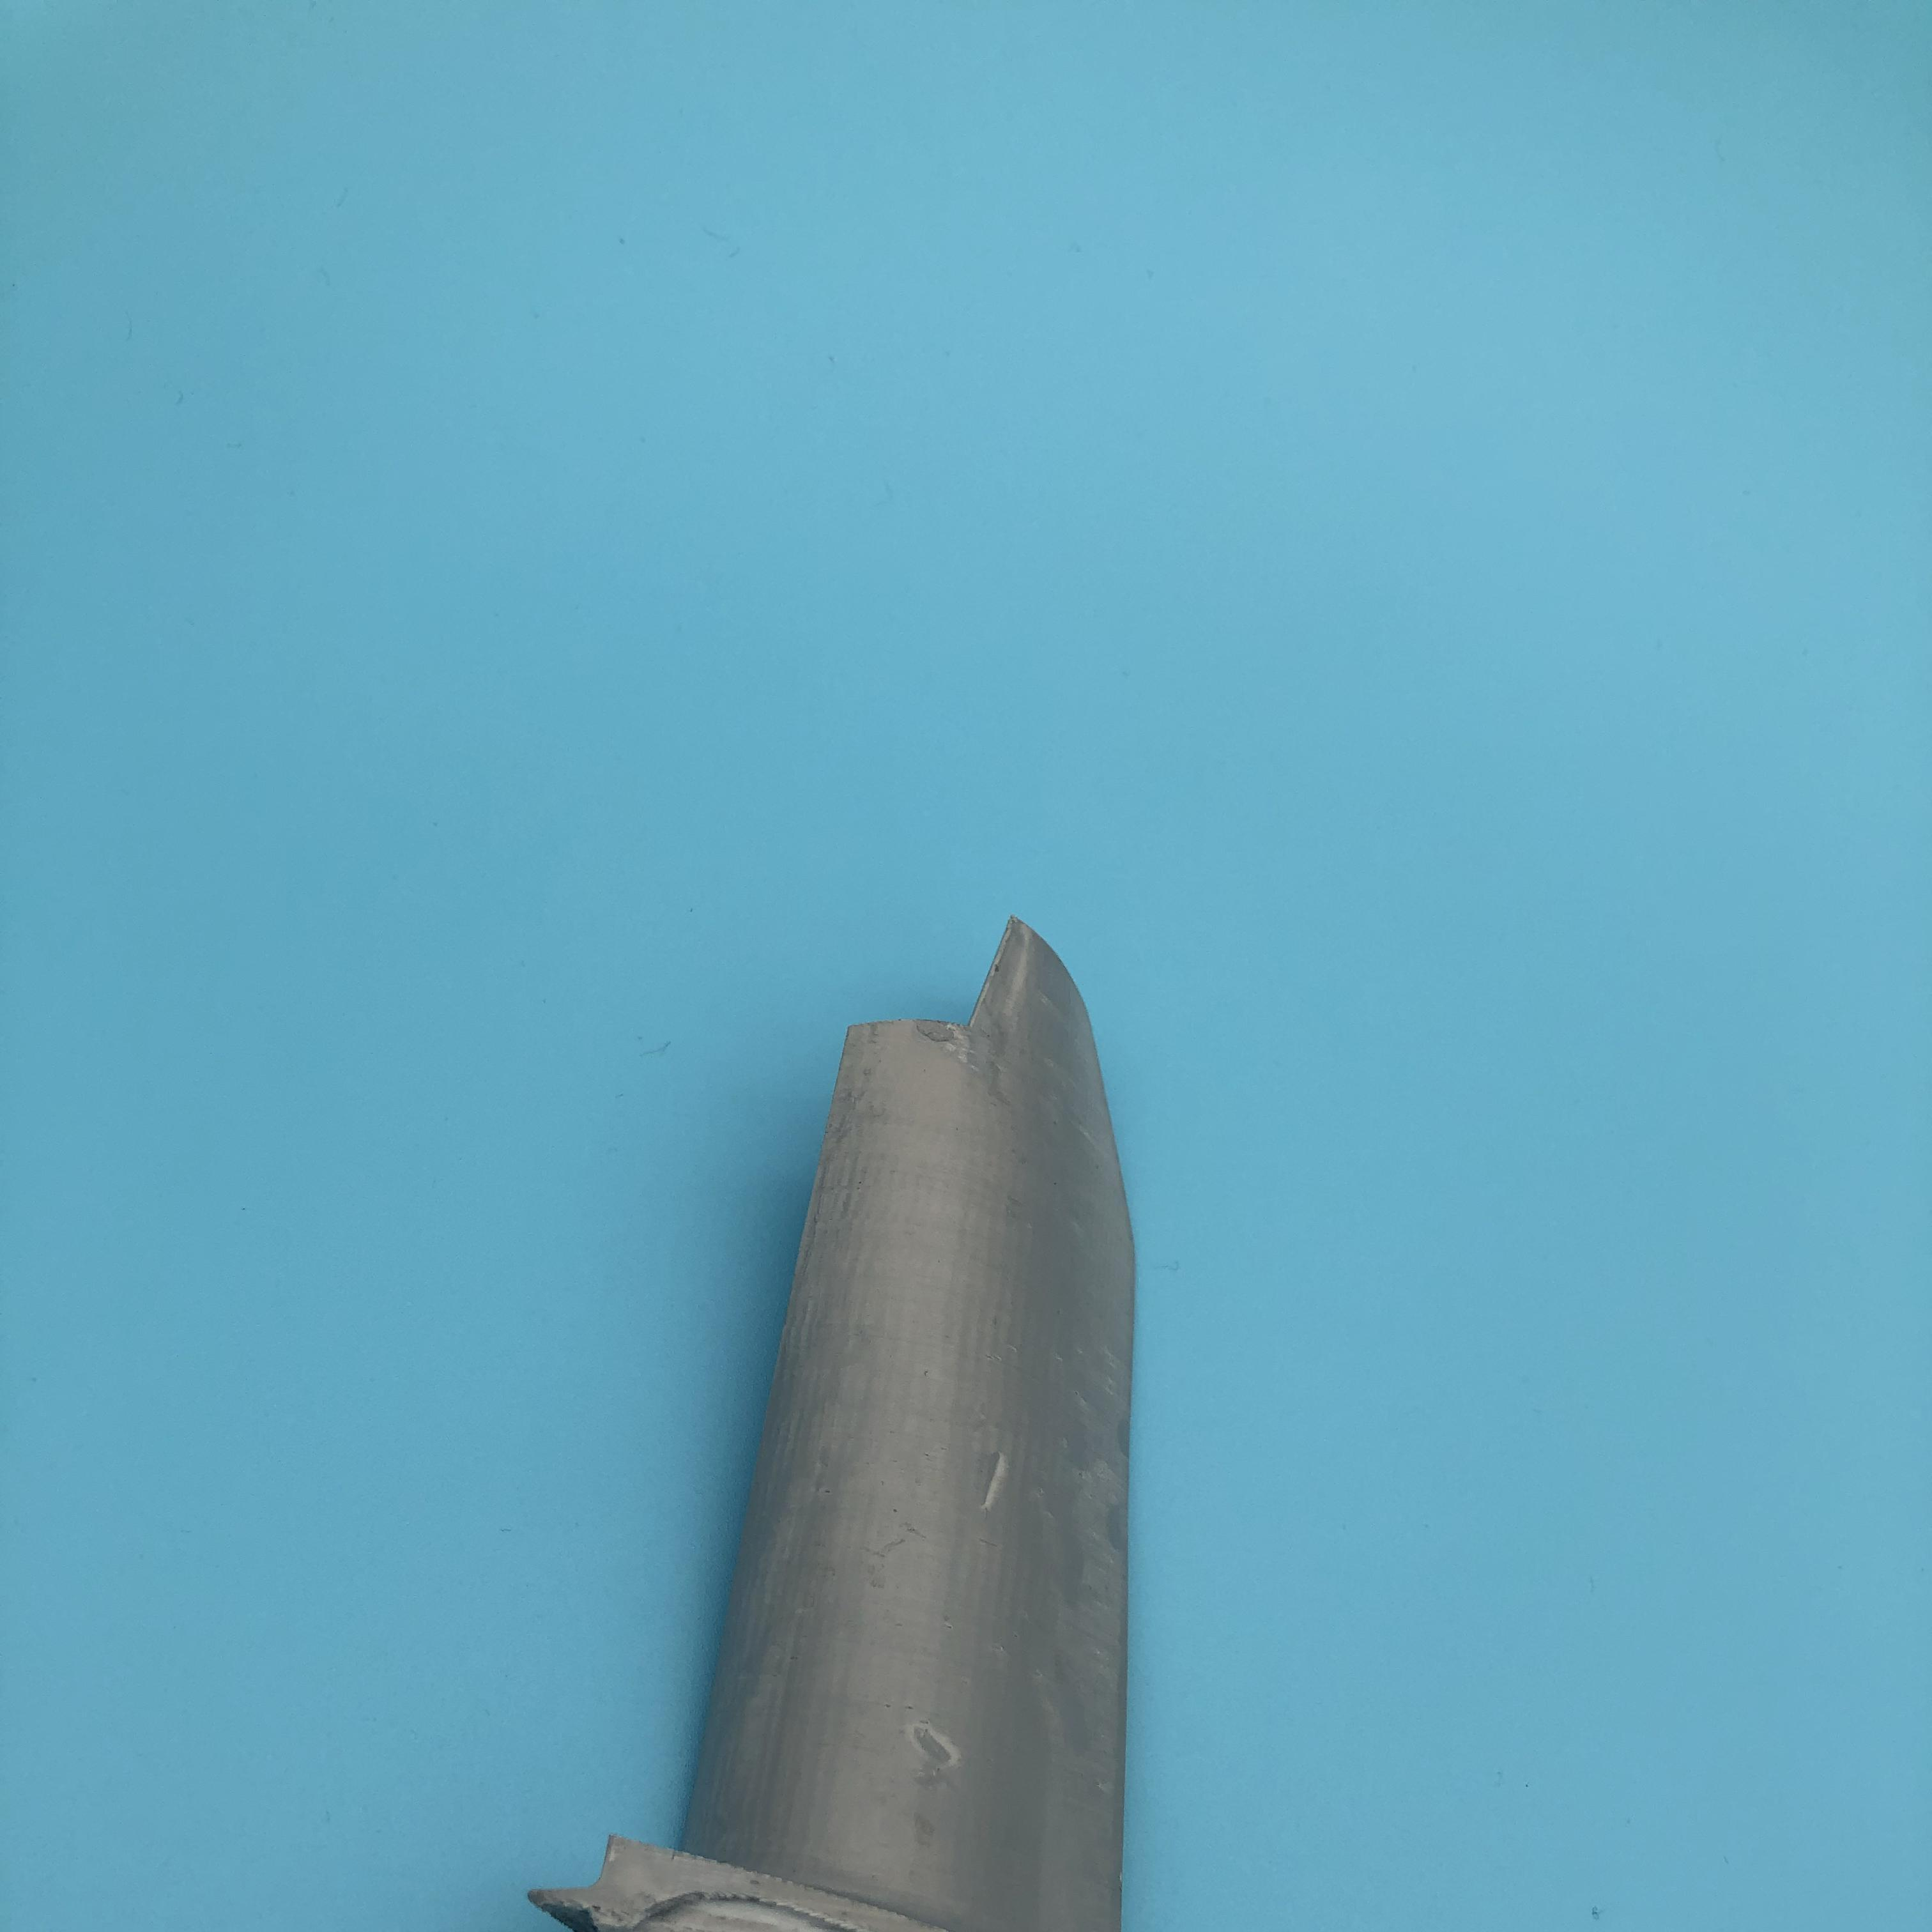fracture: (851, 909, 1047, 1056)
